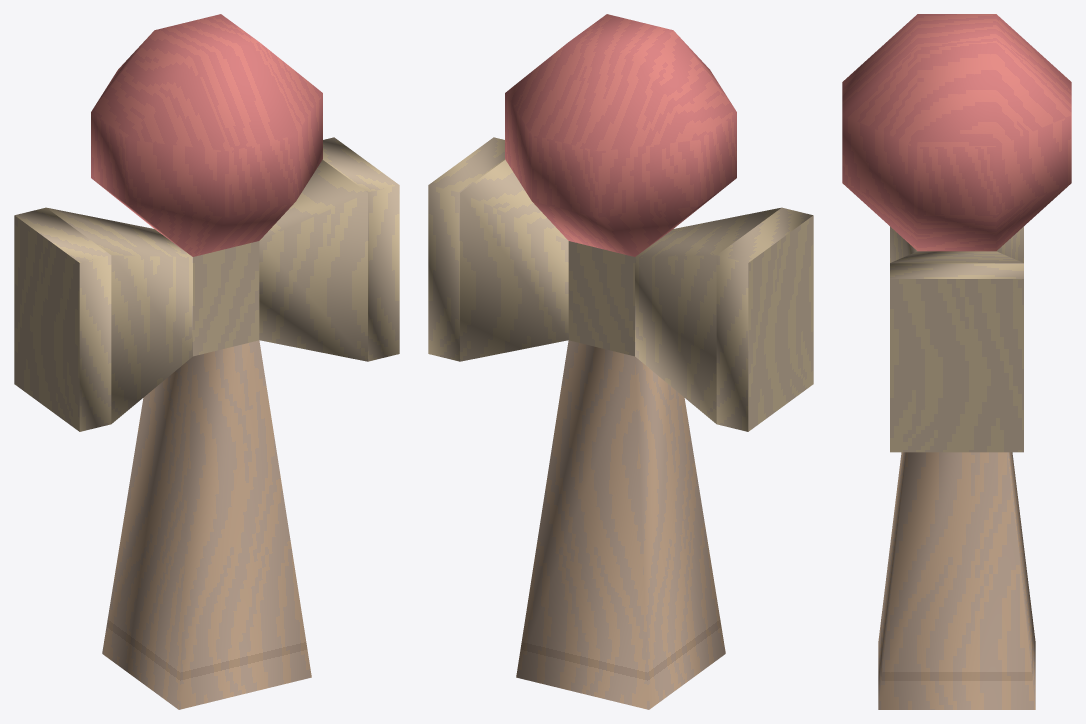
Rendered from 000f_Cup_and_Ball.glb.
The picture shows the model from 3 angles, left to right: view 1: azimuth 30°, elevation 25°; view 2: azimuth 150°, elevation 25°; view 3: azimuth 270°, elevation 25°; orthographic projection. The views are drawn at different scales.
Visible parts, largest first — view 1: part_0; view 2: part_0; view 3: part_0.
Part boxes in pixels (<box>): part_0: <box>14,14,399,709</box>; part_0: <box>428,14,813,709</box>; part_0: <box>842,14,1071,709</box>.
Bounding box in the file's own units: 0.101 × 0.19 × 0.061.
Materials: 1 (1 with a texture image).
